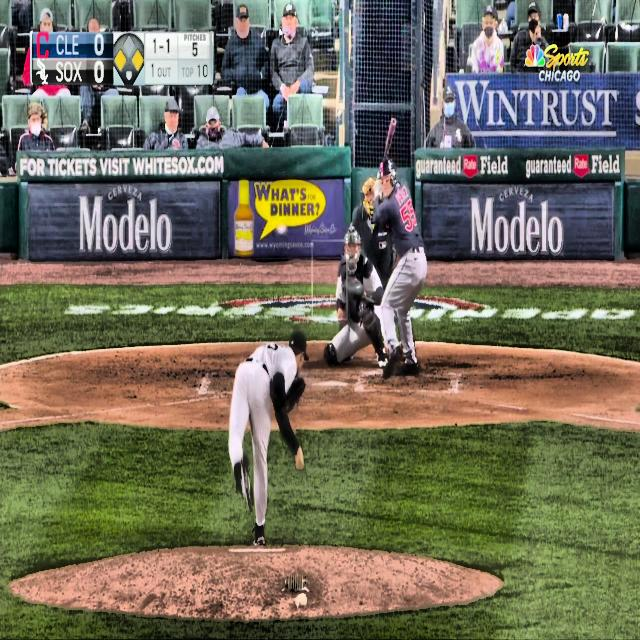baseball: (276, 222, 288, 237)
